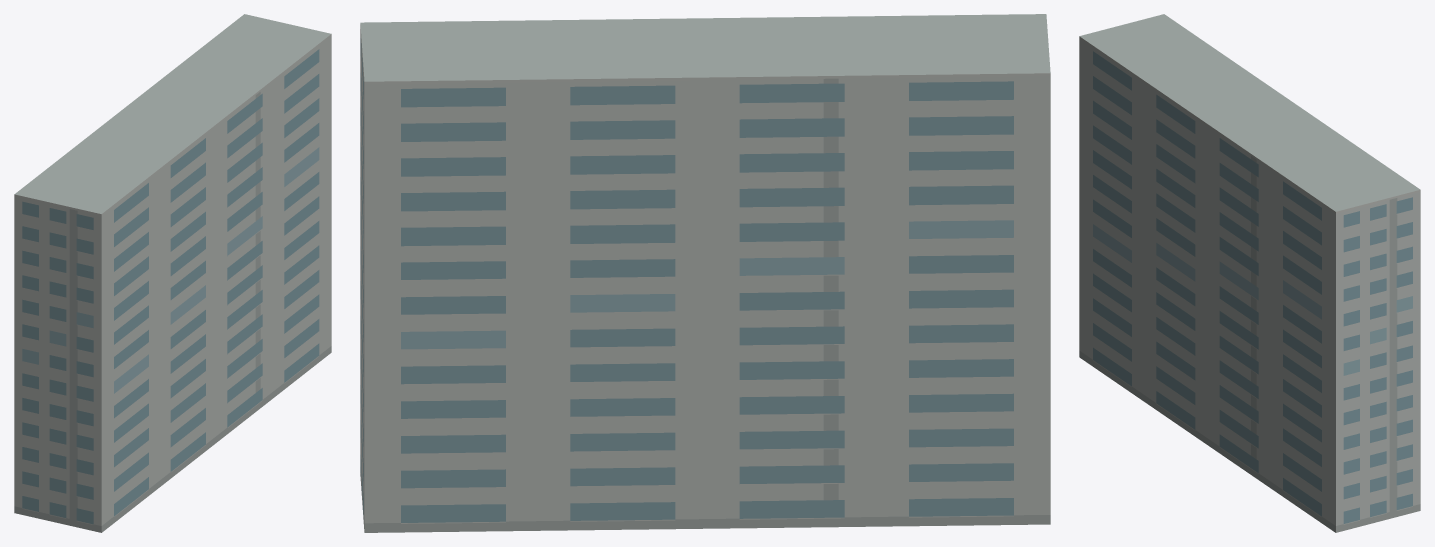
The model's file is residential-ac07027b-e57c-48da-b620-833cafd6b620.glb.
3 views of the same model, side by side, from view 1: azimuth 30°, elevation 25°; view 2: azimuth 150°, elevation 25°; view 3: azimuth 270°, elevation 25° (orthographic). The views are drawn at different scales.
Parts seen in each view (by area): view 1: residential-ac07027b-e57c-48da-b620-833cafd6b620.tmp; view 2: residential-ac07027b-e57c-48da-b620-833cafd6b620.tmp; view 3: residential-ac07027b-e57c-48da-b620-833cafd6b620.tmp.
Boxes of the visible parts, x1,y1,x2,y2 form: residential-ac07027b-e57c-48da-b620-833cafd6b620.tmp: [14, 14, 331, 532]; residential-ac07027b-e57c-48da-b620-833cafd6b620.tmp: [360, 14, 1050, 532]; residential-ac07027b-e57c-48da-b620-833cafd6b620.tmp: [1079, 14, 1420, 532].
Bounding box in the file's own units: 52.4 × 39.65 × 38.22.
